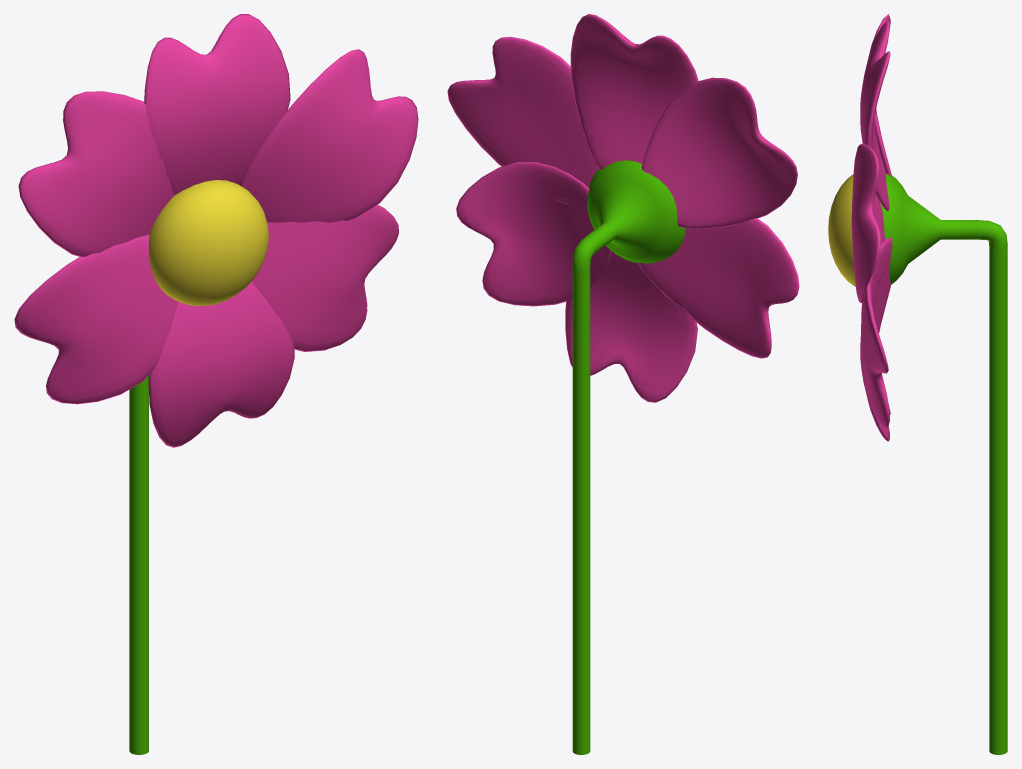
File: flower.glb
The picture shows the model from 3 angles, left to right: view 1: azimuth 30°, elevation 25°; view 2: azimuth 150°, elevation 25°; view 3: azimuth 270°, elevation 25°; orthographic projection. The views are drawn at different scales.
Visible parts, largest first — view 1: Flower; view 2: Flower; view 3: Flower.
Part boxes in pixels (left/top/right/bottom): Flower: left=14, top=14, right=418, bottom=754; Flower: left=447, top=14, right=799, bottom=754; Flower: left=828, top=14, right=1007, bottom=754.
Bounding box in the file's own units: 0.9592 × 1.77 × 0.4016.
